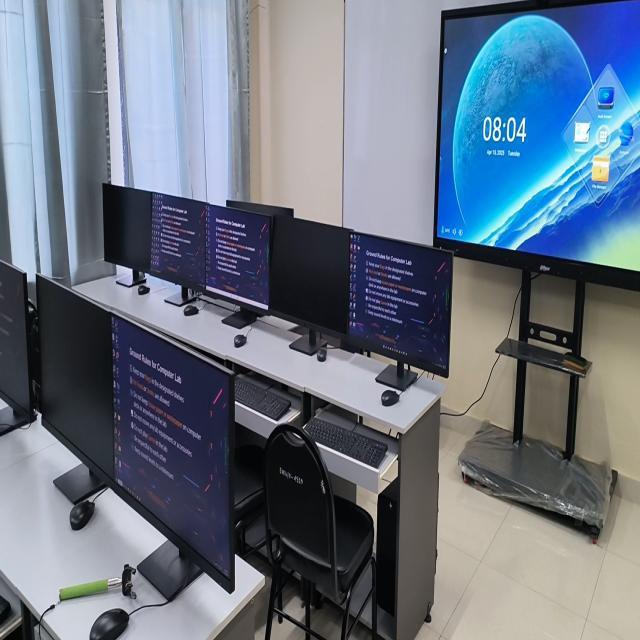Chair: (264, 424, 377, 639), (234, 444, 265, 557), (250, 495, 257, 503)
Digital board: (433, 0, 640, 292)
Keyboard: (304, 419, 387, 468), (235, 379, 291, 421)
Monitor: (111, 316, 234, 584), (348, 231, 453, 377), (36, 277, 113, 475), (269, 216, 349, 335), (206, 206, 270, 309), (0, 260, 35, 423), (149, 194, 207, 289), (103, 183, 152, 271), (226, 200, 294, 219)
Mouse: (90, 608, 129, 639), (70, 500, 95, 530), (381, 389, 399, 406), (183, 305, 199, 316), (234, 334, 247, 347), (317, 345, 327, 361), (138, 284, 150, 295)
